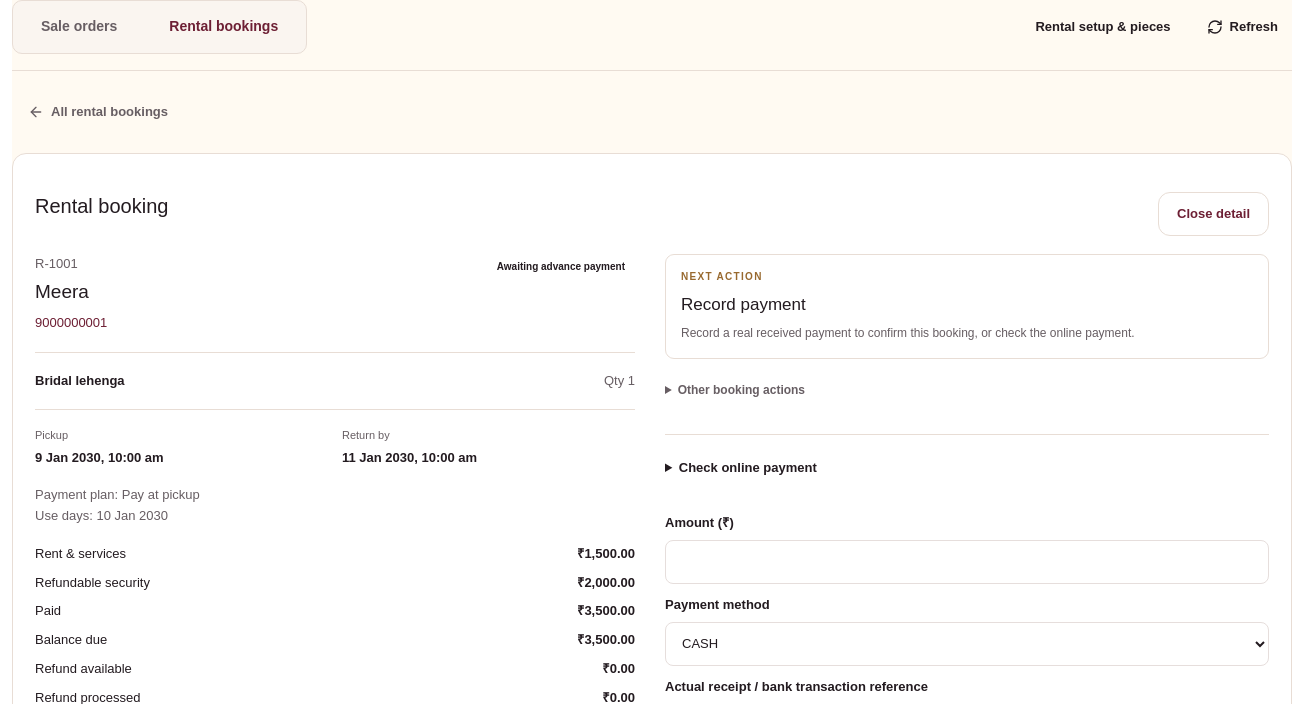
a refreshed provider-confirmed booking switches from payment to preparation without remounting its detail
Expected: the number field labelled "Amount (₹)" is shown, [665,540,1269,584]
Click the button with aria-label "Refresh rental orders" at (1242, 27), box [1193,6,1292,48]
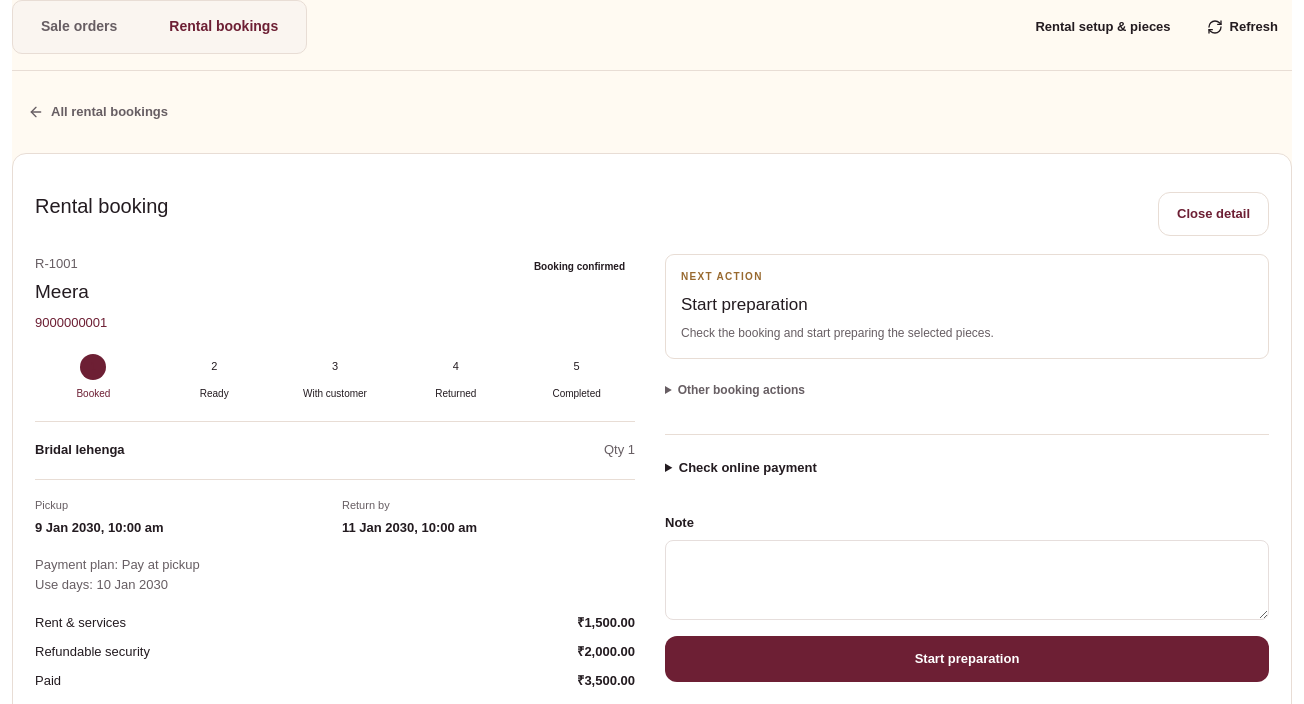
Expected: the button with class "rental-order-save" reads "Start preparation", [665,636,1269,682]
Expected: the text labelled "Amount (₹)" is gone
